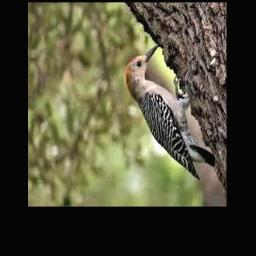Woodpecker: (126, 44, 216, 180)
